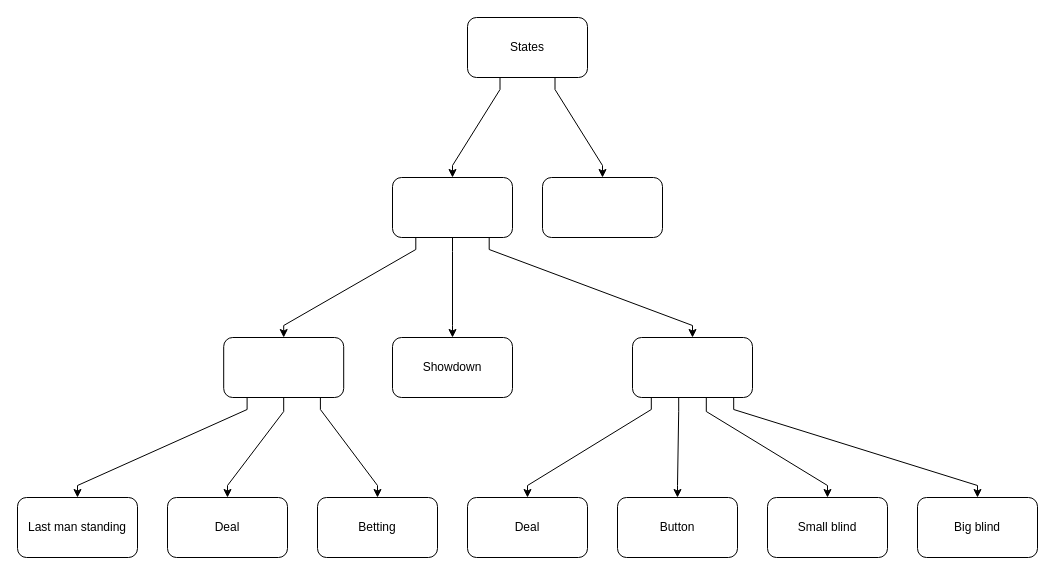
This 1055x575 diagram has some shape labels left out. The centre of each missing label's shape, as x and y in pixels:
"Game" goes at [452,207].
"No game" goes at [602,207].
"Rounds" goes at [283,367].
"Setup" goes at [692,367].
